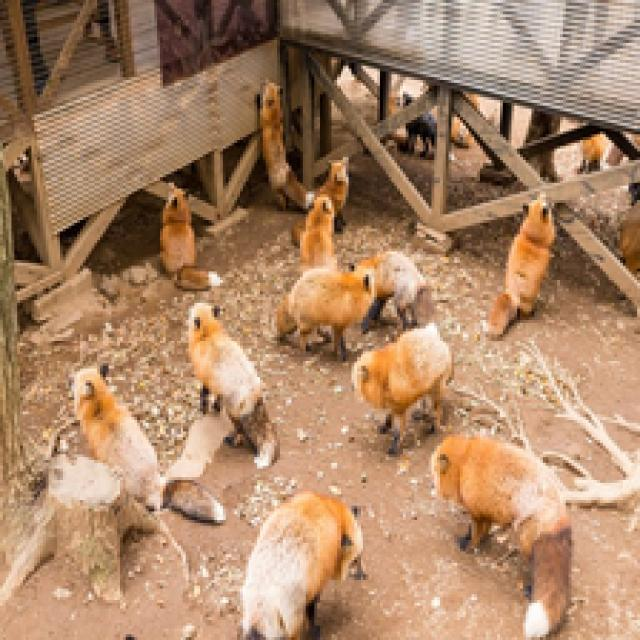fox: (425, 427, 608, 640), (129, 291, 301, 454), (210, 493, 382, 635), (338, 308, 492, 431), (55, 360, 186, 502), (485, 178, 572, 340), (143, 186, 240, 288), (140, 174, 218, 283), (280, 189, 374, 275), (304, 156, 362, 219)
